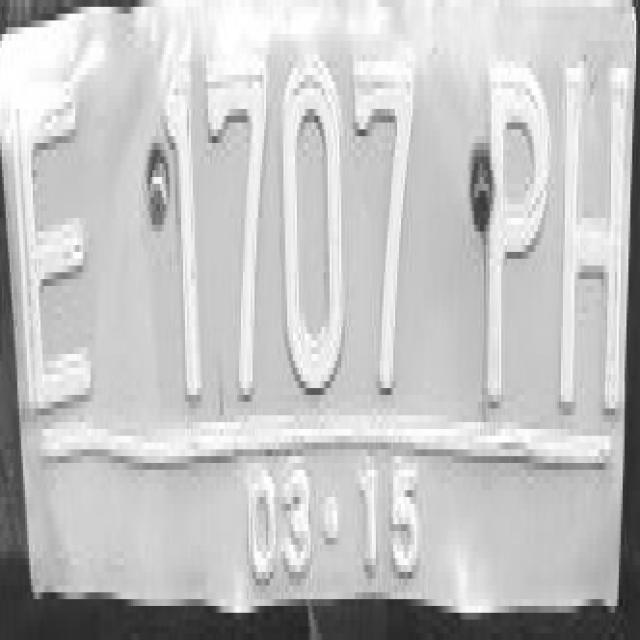license-plat: (2, 0, 635, 640)
